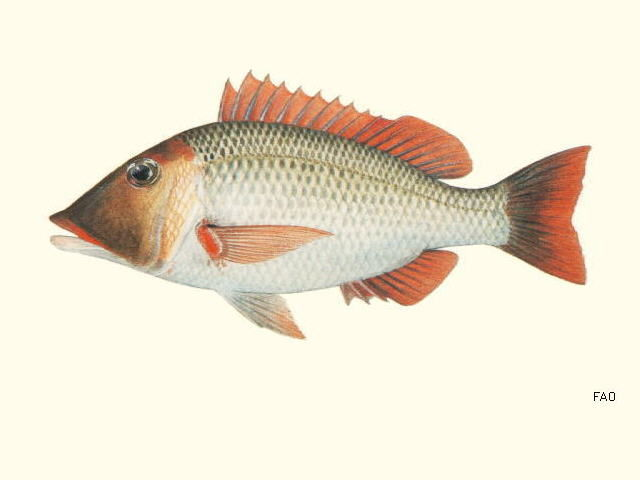fish: (48, 70, 593, 340)
